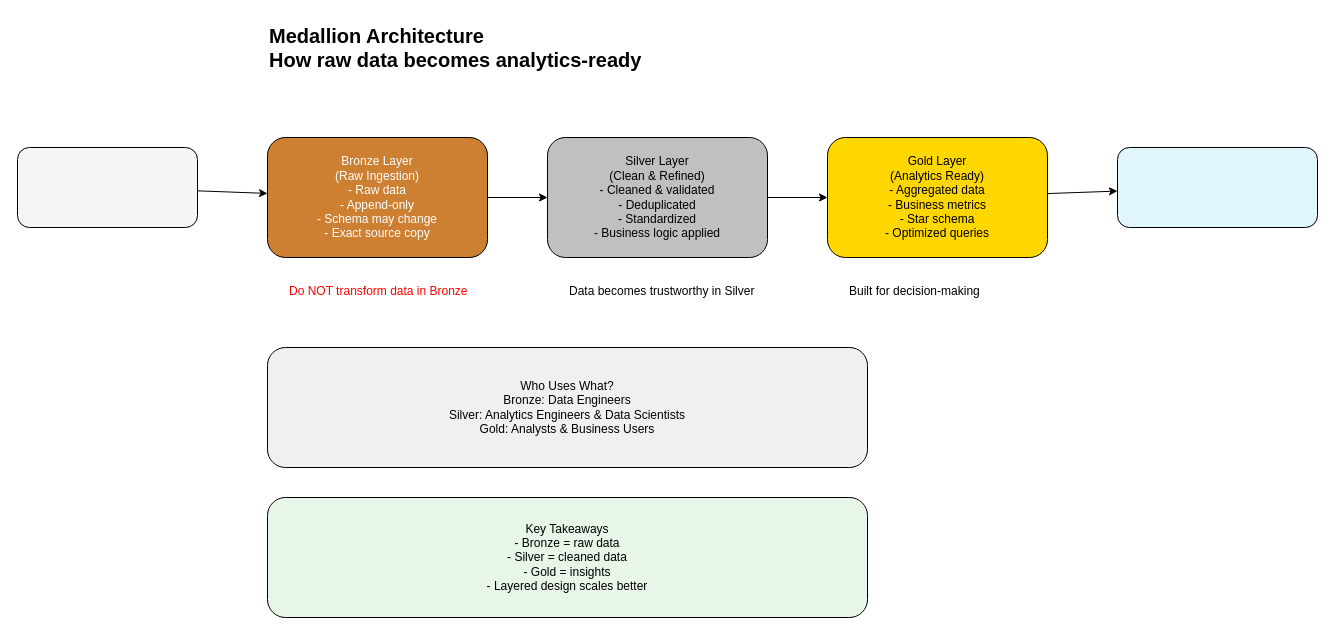
The diagram is 1335 pixels wide and 635 high, and some of its shapes have lost their labels. The shapes that lost their labels are listed below. From the top down, each one's centre as x and y in pixels, then its label:
the point at 107,187: Data Sources Databases | APIs | Logs | Events
the point at 1217,187: BI / ML Dashboards | Reports | ML Models
